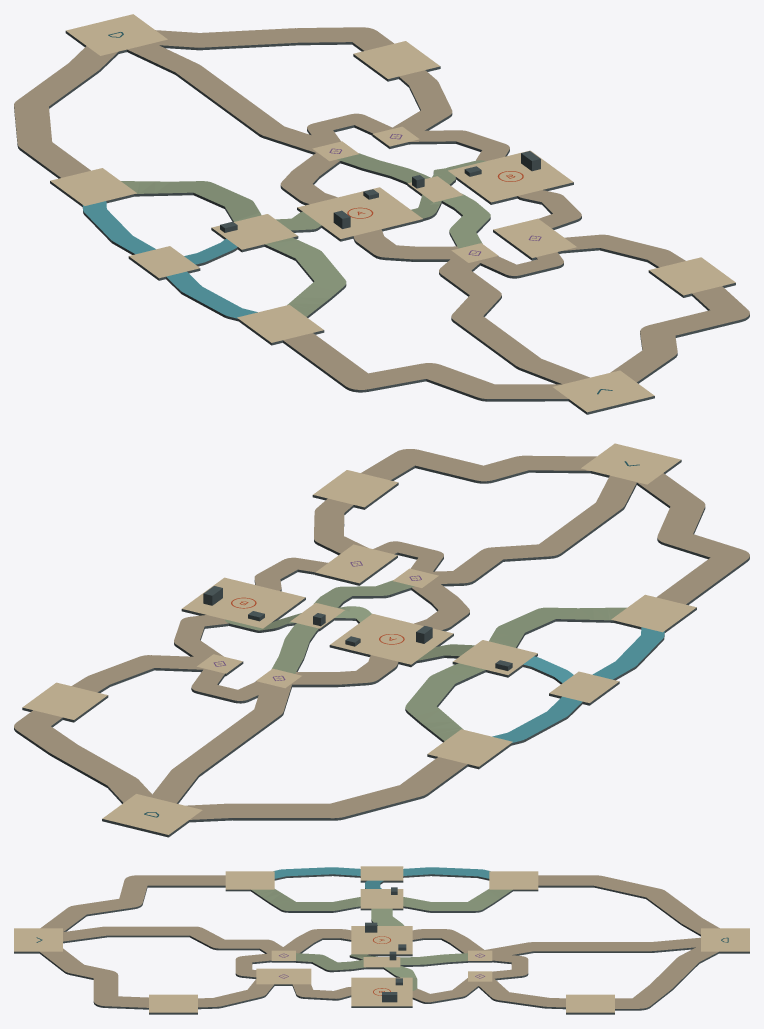
The model's file is mandala.glb.
3 renders of one model, top to bottom at view 1: azimuth 30°, elevation 25°; view 2: azimuth 150°, elevation 25°; view 3: azimuth 270°, elevation 25°, orthographic. The views are drawn at different scales.
Visible parts, largest first — view 1: Mandala Rift • continuous floor; view 2: Mandala Rift • continuous floor; view 3: Mandala Rift • continuous floor.
Part boxes in pixels (<box>): Mandala Rift • continuous floor: <box>14,14,749,414</box>; Mandala Rift • continuous floor: <box>14,443,749,837</box>; Mandala Rift • continuous floor: <box>14,866,749,1014</box>.
Bounding box in the file's own units: 114 × 4.45 × 240.
